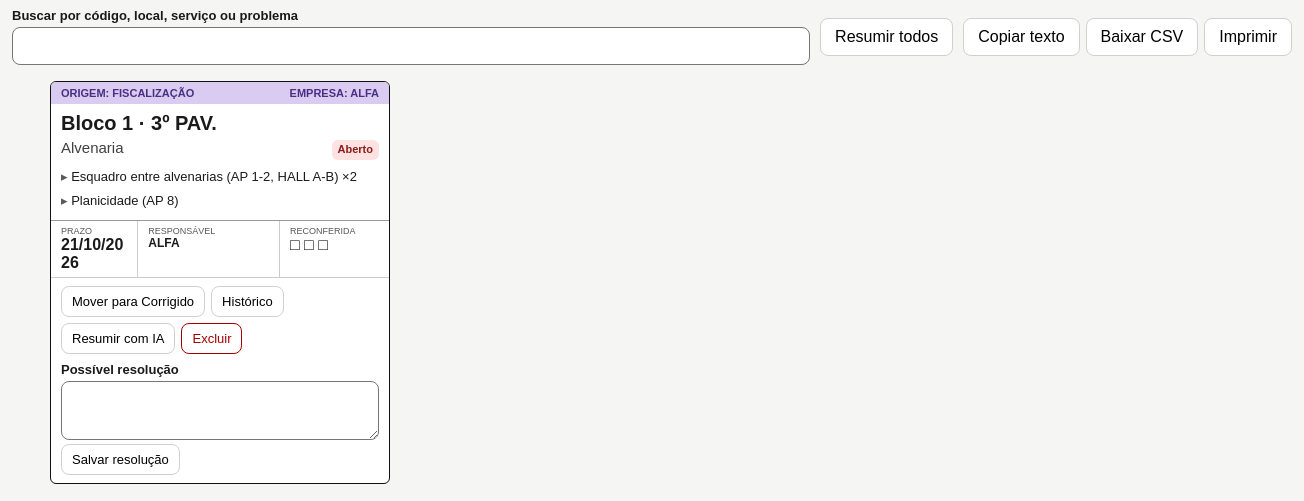
Test: <Cards/> › dono: excluir tira o card
Click the button "Excluir".
click(212, 338)  # box [182,323,242,354]
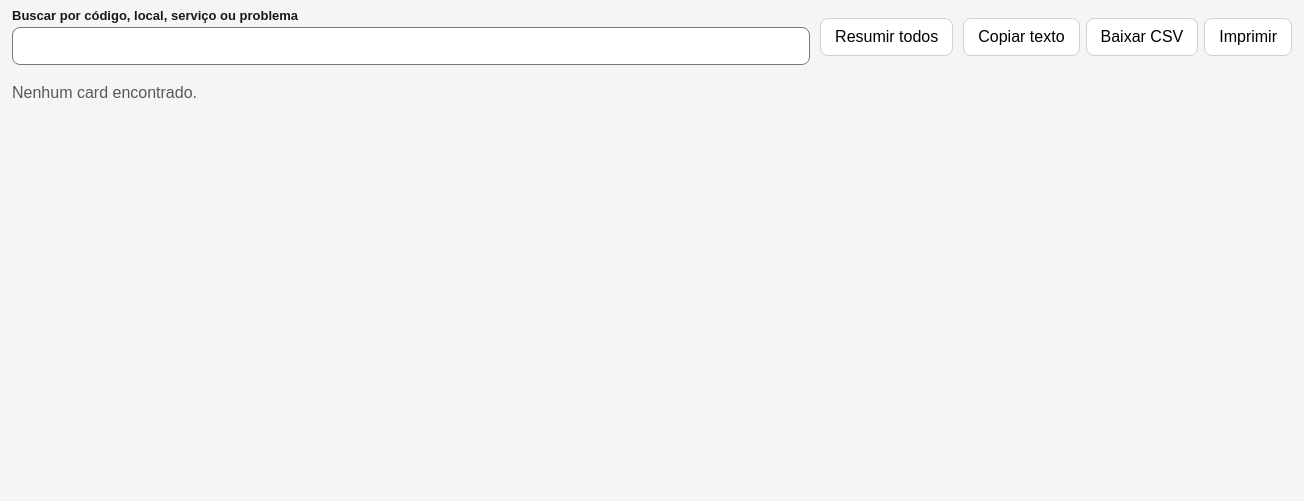
Expected: the text "Nenhum card encontrado." is shown, [12,84,197,101]
